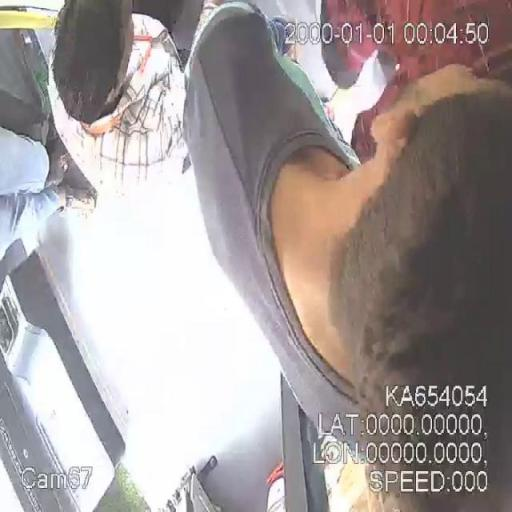persona: (180, 2, 511, 510), (48, 2, 190, 204), (2, 124, 97, 274)
